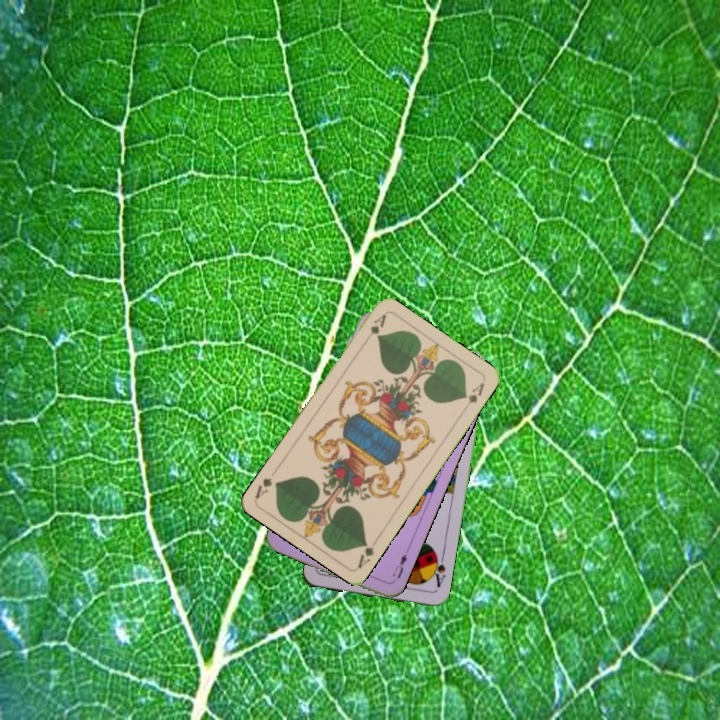EU: (388, 546, 411, 581)
GA: (360, 310, 389, 346), (354, 538, 377, 570)
SA: (428, 550, 448, 590)
